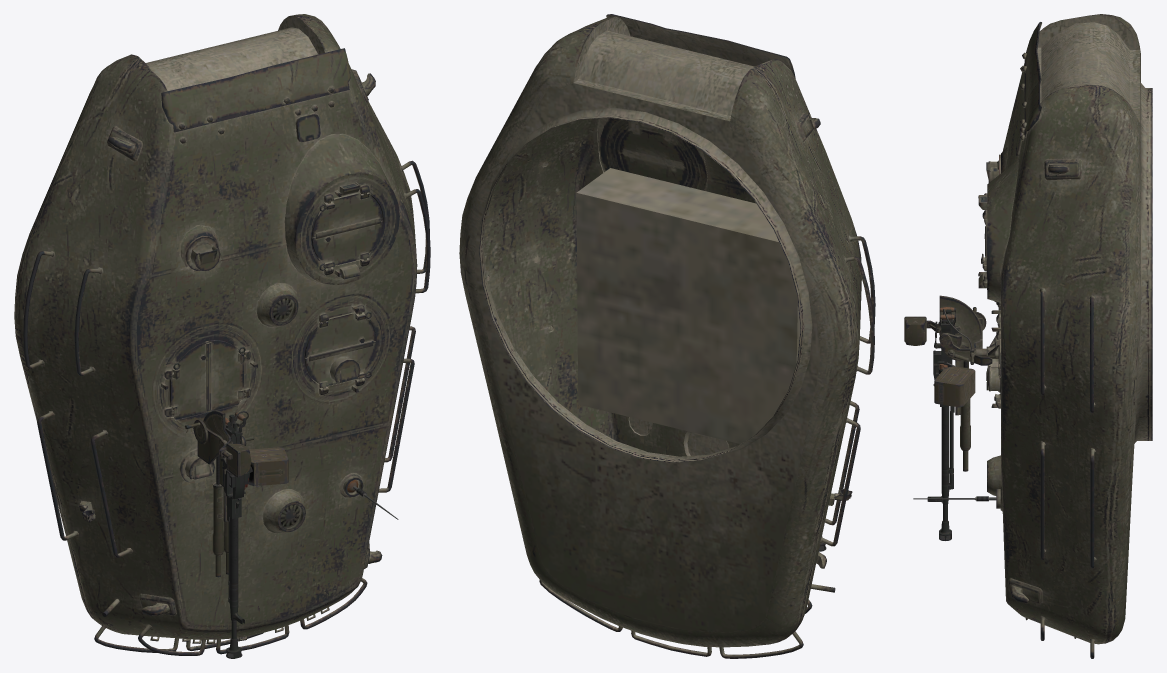
The model's file is Turret_01.glb.
3 views of the same model, side by side, from view 1: azimuth 30°, elevation 25°; view 2: azimuth 150°, elevation 25°; view 3: azimuth 270°, elevation 25° (orthographic). The views are drawn at different scales.
Parts seen in each view (by area): view 1: set_0_group_0; view 2: set_0_group_0; view 3: set_0_group_0.
Boxes of the visible parts, x1,y1,x2,y2 form: set_0_group_0: (14,14,430,658); set_0_group_0: (459,14,875,658); set_0_group_0: (904,14,1152,658).
Bounding box in the file's own units: 2.88 × 4.13 × 1.61.
1 material, 1 textured.
